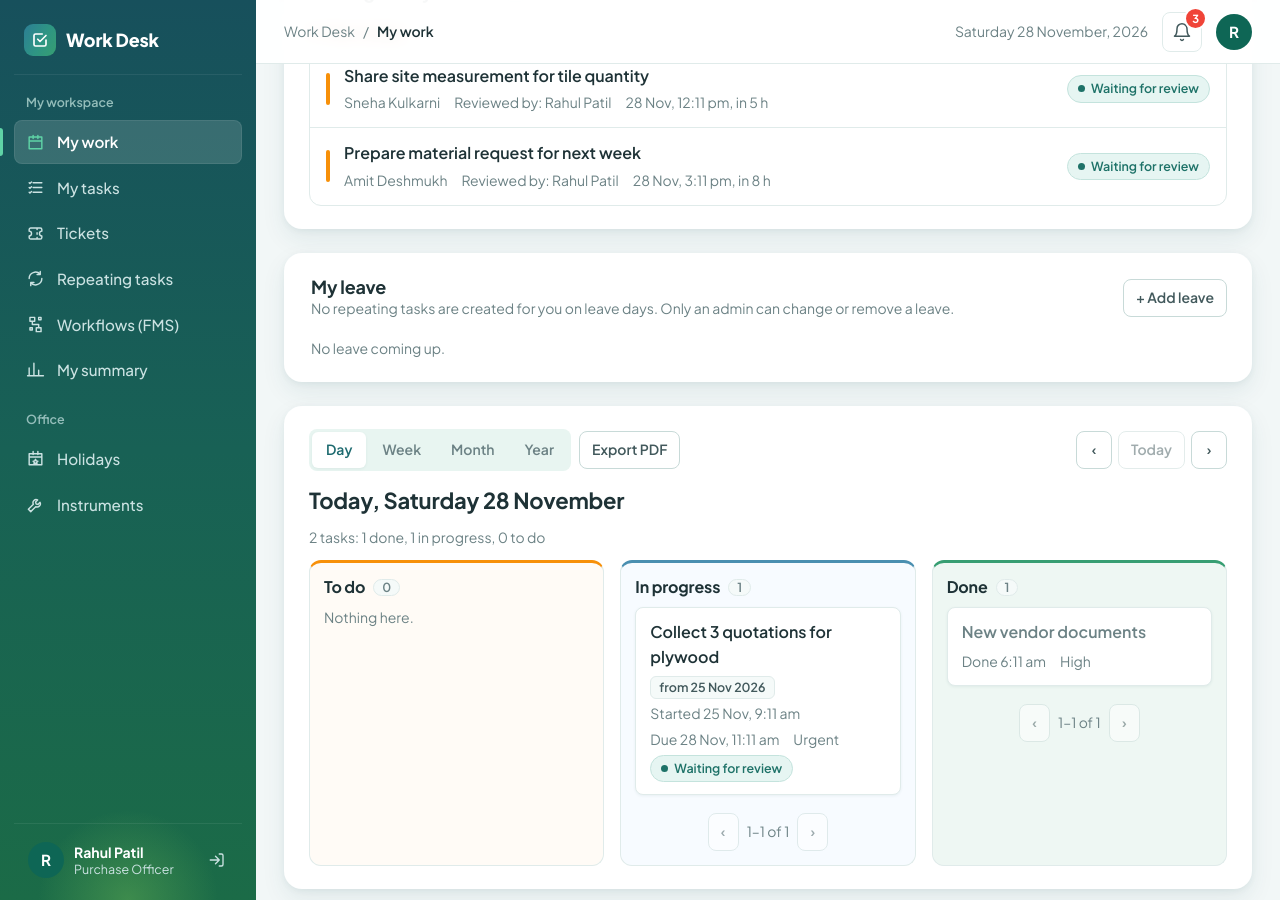
Test: today view carries over unfinished work › week view: a repeating task weeks ahead shows on its day and opens when clicked
(page scrolled)
Click the tab "Week": (402, 450) [368,432,435,468]
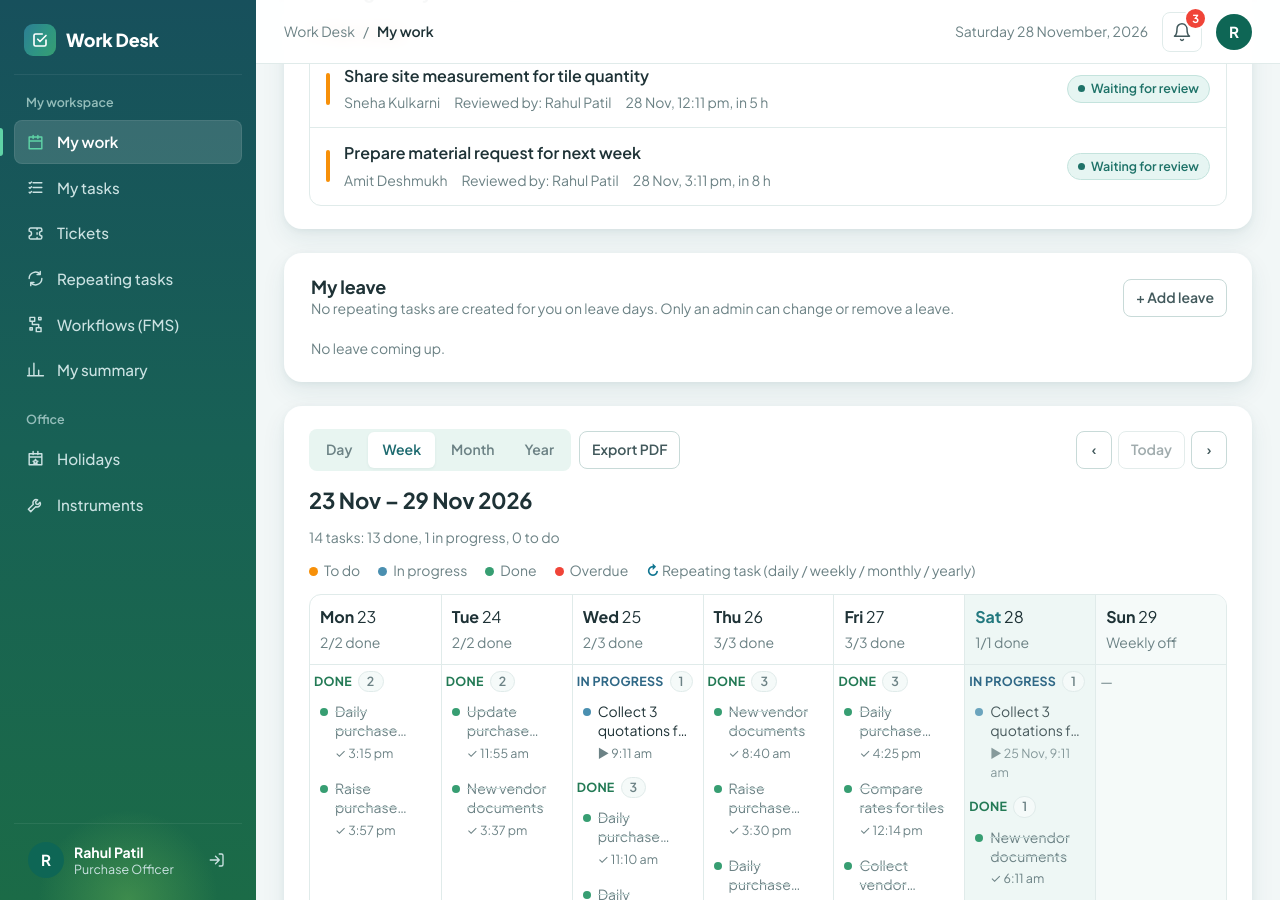
Click the button named "Next": (1209, 450) [1191,432,1227,469]
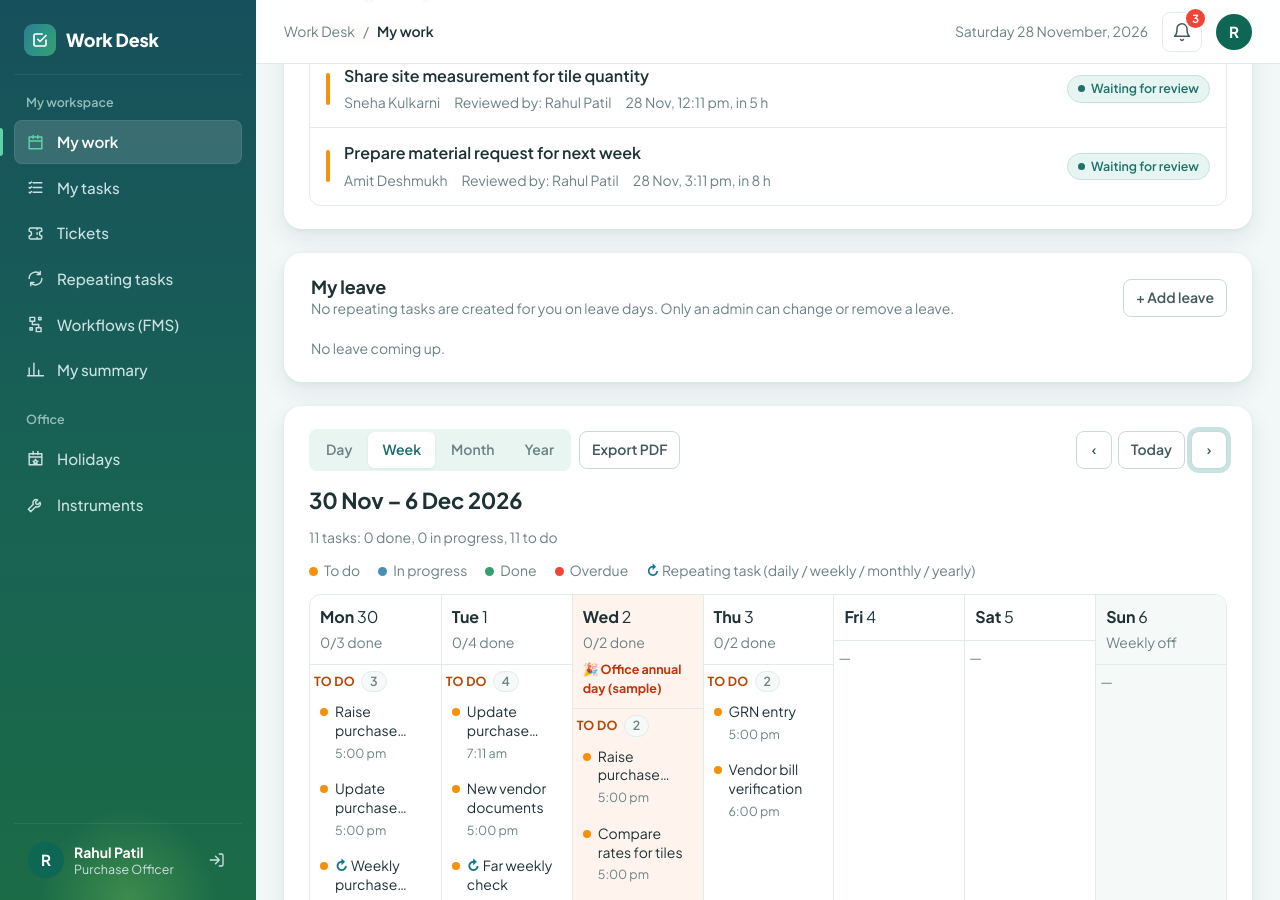
Click the button named "Next": (1209, 450) [1191,432,1227,469]
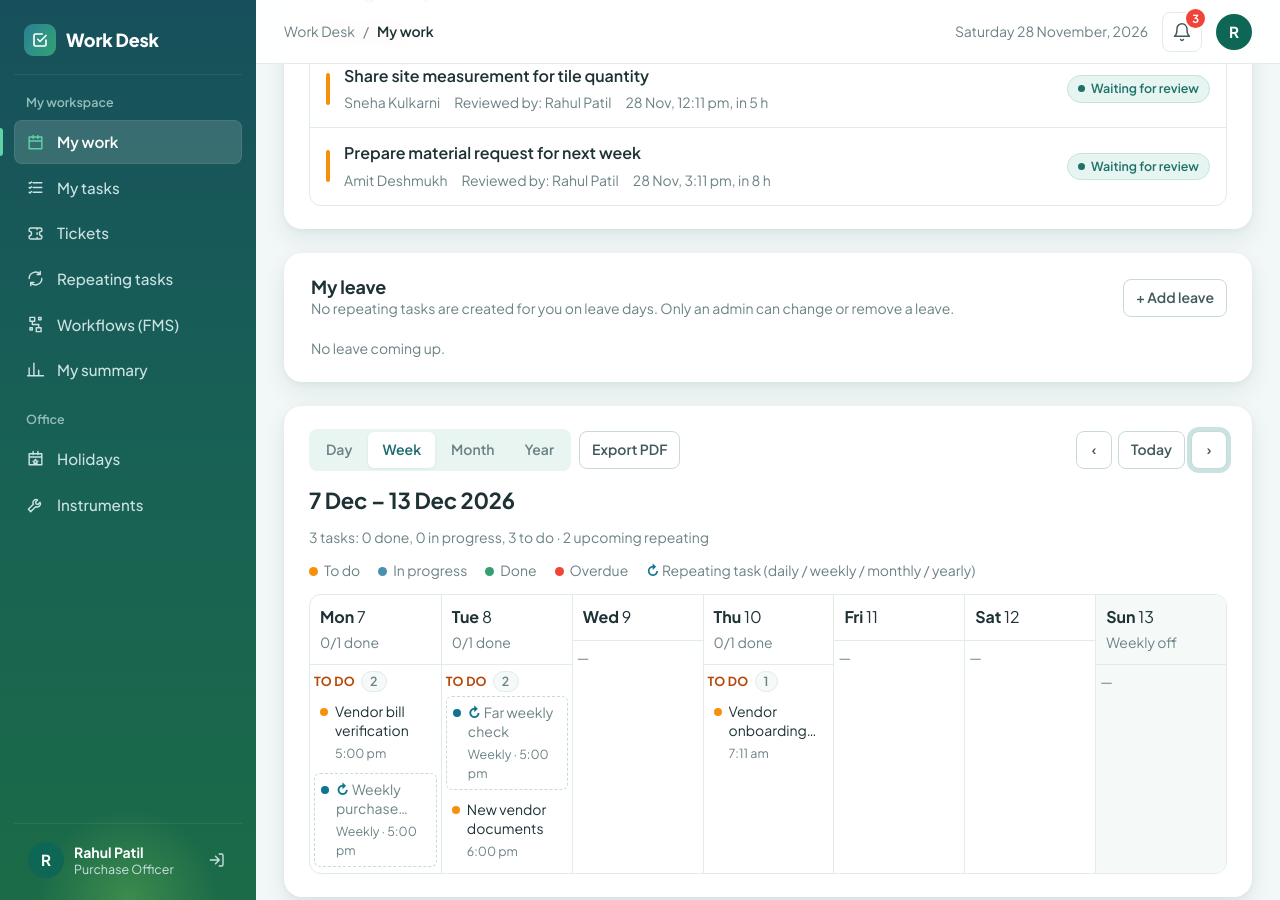
Click the button named "Next": (1209, 450) [1191,432,1227,469]
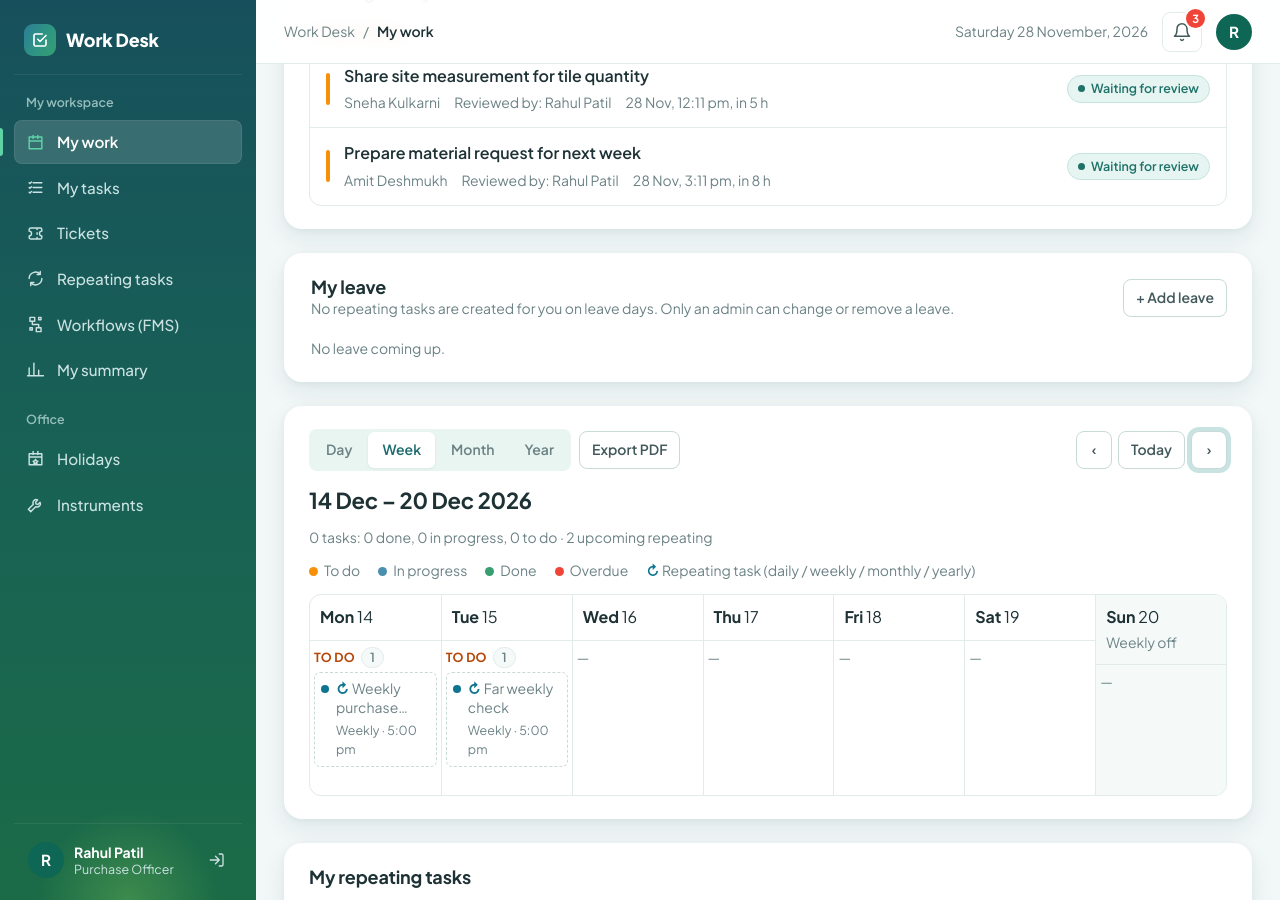
Result: the element with class "week-grid" is shown at [309,594,1227,796]
Result: the text "Tue" is shown at [452,606,479,627]
Click the button "↻ Far weekly check Weekly · 5:00 pm": (507, 719) [446,672,568,767]
(page scrolled)
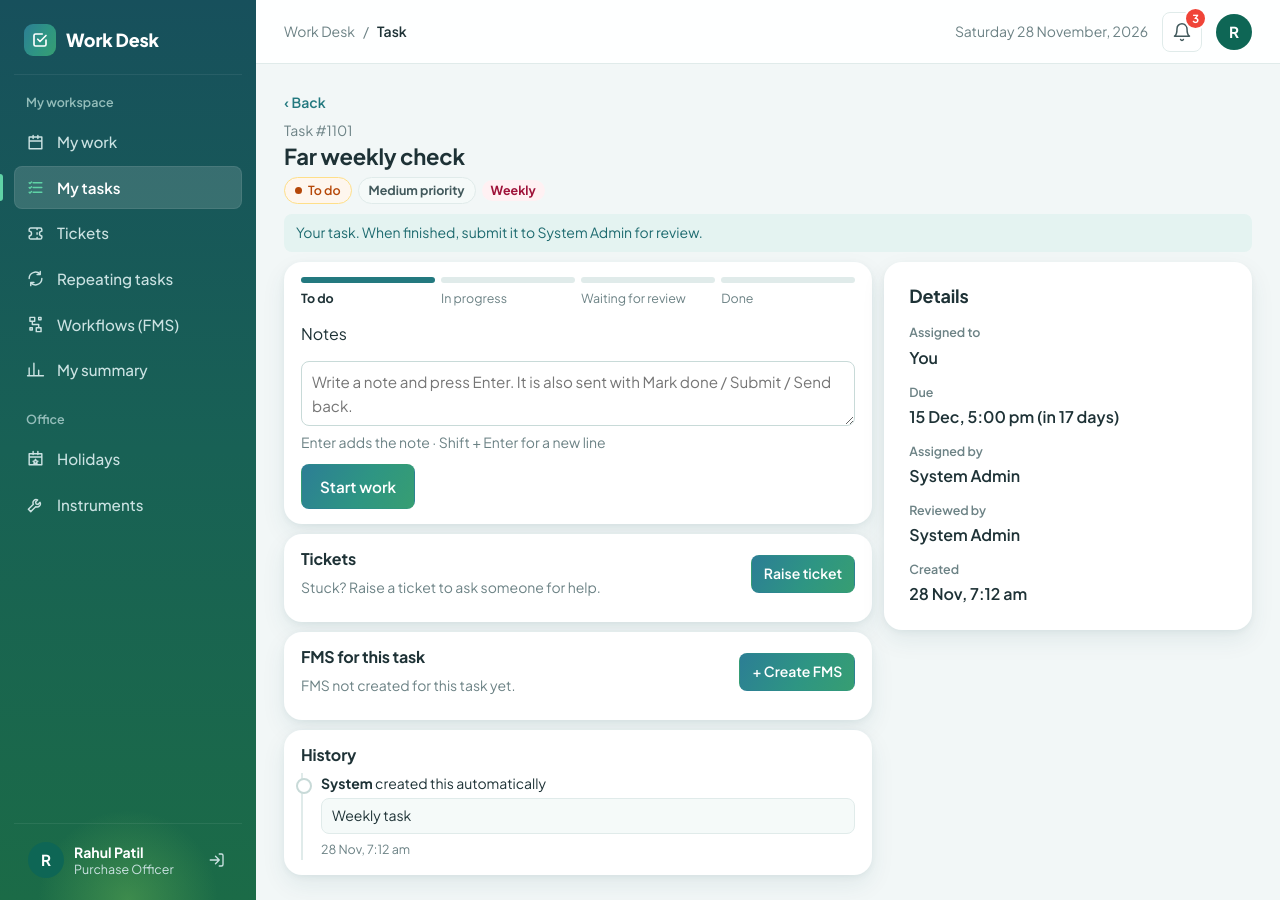
Result: the heading "Far weekly check" is shown at [284,142,465,170]
